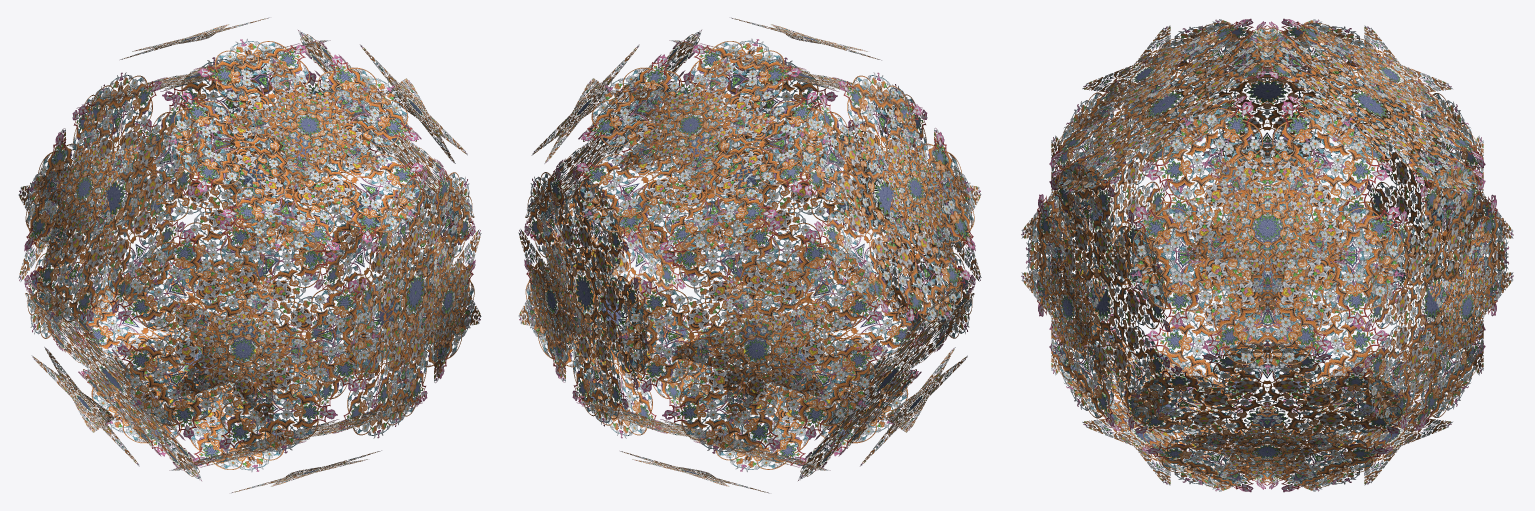
File: 8Icosidodecadodecahedron.gltf
3 renders of one model, left to right at view 1: azimuth 30°, elevation 25°; view 2: azimuth 150°, elevation 25°; view 3: azimuth 270°, elevation 25°, orthographic. The views are drawn at different scales.
Visible parts, largest first — view 1: Icosidodecadodecahedron8; view 2: Icosidodecadodecahedron8; view 3: Icosidodecadodecahedron8.
Boxes of the visible parts, left/top/right/bottom form: Icosidodecadodecahedron8: left=18, top=17, right=481, bottom=493; Icosidodecadodecahedron8: left=518, top=17, right=981, bottom=493; Icosidodecadodecahedron8: left=1021, top=18, right=1513, bottom=492.
Bounding box in the file's own units: 2.62 × 2.62 × 2.62.
1 material, 1 textured.
